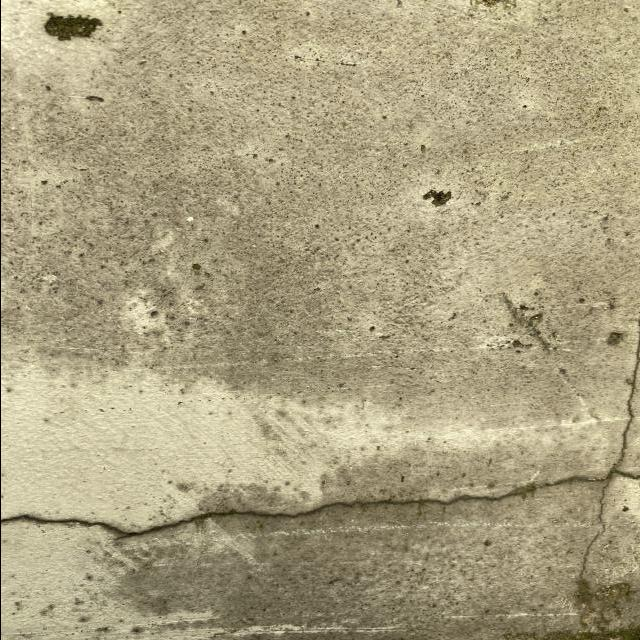SurfaceCrack: (0, 405, 639, 580)
